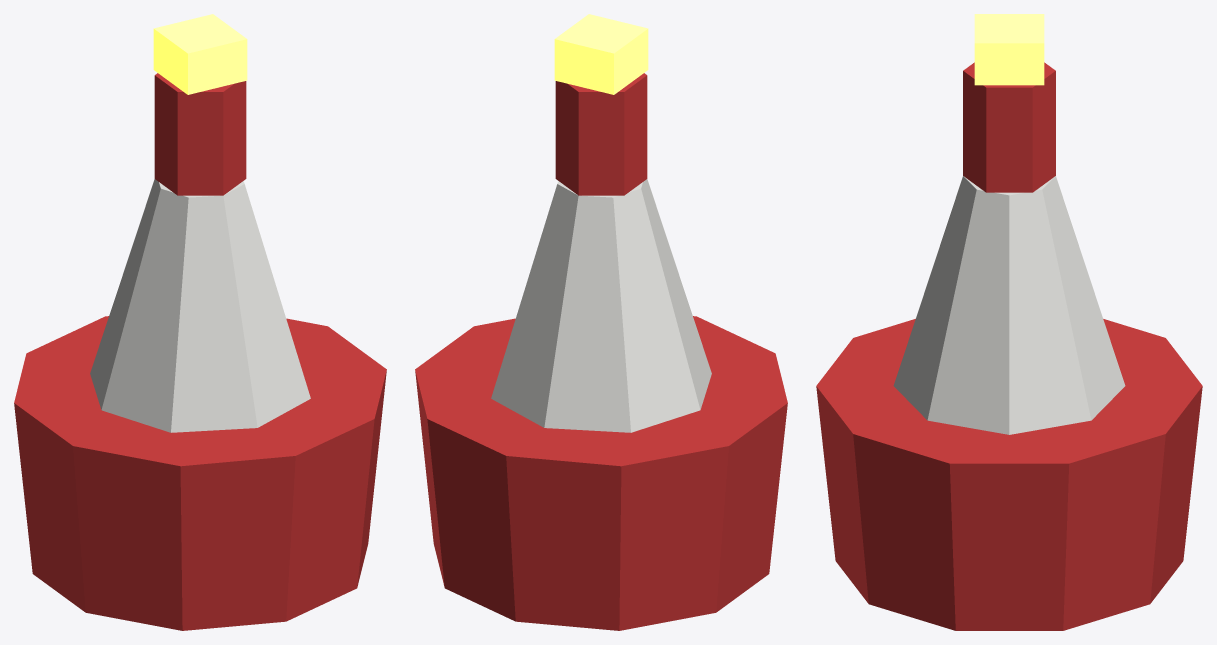
The model's file is buoy.glb.
3 renders of one model, left to right at view 1: azimuth 30°, elevation 25°; view 2: azimuth 150°, elevation 25°; view 3: azimuth 270°, elevation 25°, orthographic.
Parts seen in each view (by area): view 1: buoy; view 2: buoy; view 3: buoy.
Boxes of the visible parts, x1=… form: buoy: x1=14, y1=14, x2=386, y2=630; buoy: x1=415, y1=14, x2=787, y2=630; buoy: x1=816, y1=14, x2=1202, y2=630.
Bounding box in the file's own units: 0.9511 × 1.52 × 1.
